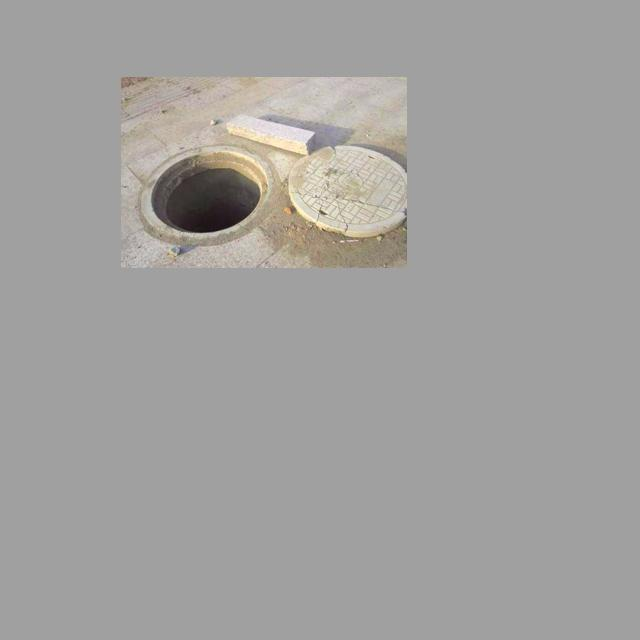uncovered: (139, 140, 405, 241)
